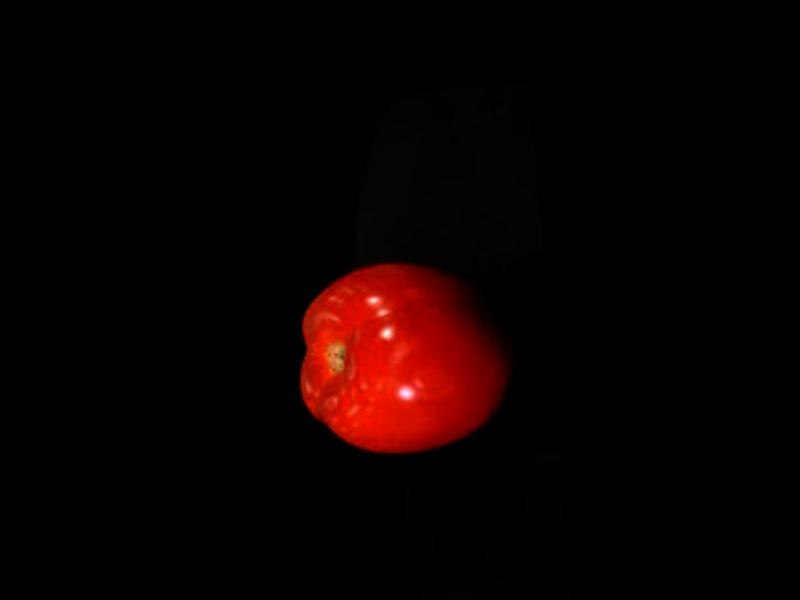Tomato: (286, 251, 522, 465)
